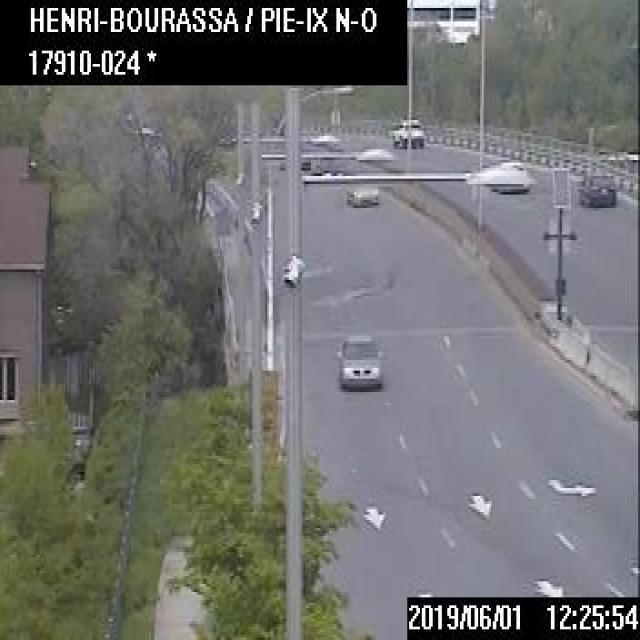vehicle: (334, 333, 382, 392), (576, 168, 614, 208), (489, 159, 529, 192), (391, 117, 422, 147), (346, 187, 378, 205)
